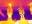Hotspot: (7, 3, 13, 21), (30, 3, 32, 14), (13, 21, 20, 23), (28, 20, 31, 23)
